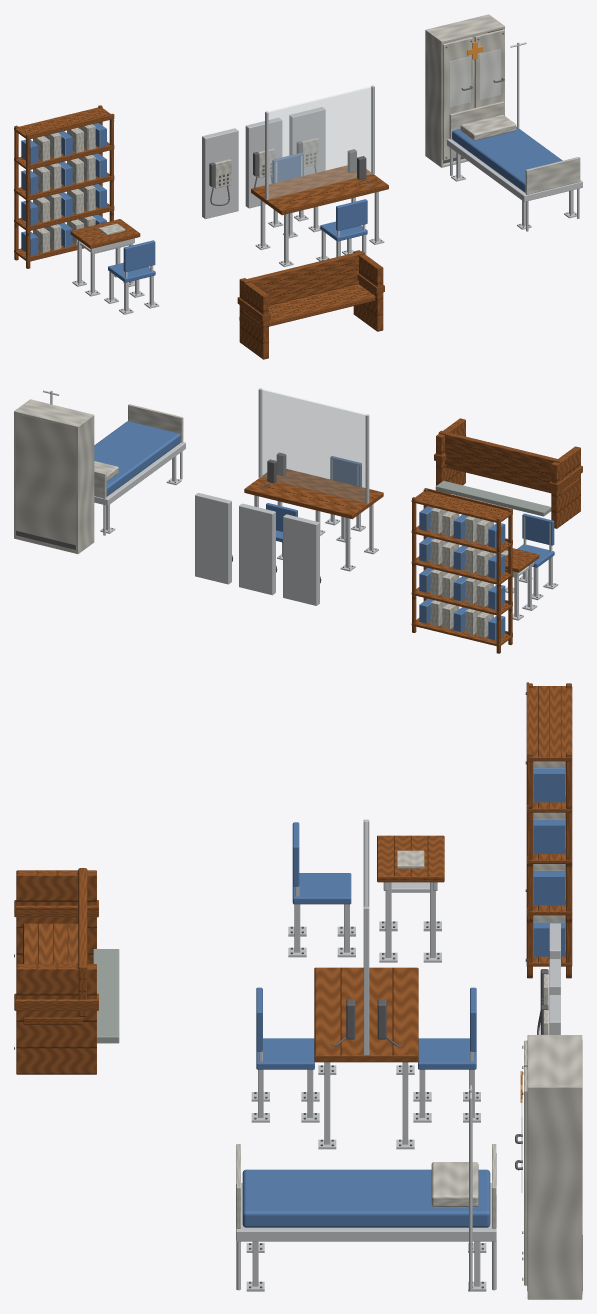
The model's file is prison-complex-builder-rehabilitation-and-care-541ae69b__25724.glb.
3 renders of one model, top to bottom at view 1: azimuth 30°, elevation 25°; view 2: azimuth 150°, elevation 25°; view 3: azimuth 270°, elevation 25°, orthographic. The views are drawn at different scales.
Visible parts, largest first — view 1: 002-visitation-booth/3, 006-chapel-pew/0, 003-phone-bank/0, 001-library-shelf/0, 001-library-shelf/5, 005-pharmacy-cabinet/0, 002-visitation-booth/0, 004-infirmary-bed/3, 001-library-shelf/3, 004-infirmary-bed/2, 002-visitation-booth/1, 005-pharmacy-cabinet/door-1/plasticWhite (+11 smaller); view 2: 005-pharmacy-cabinet/0, 003-phone-bank/0, 002-visitation-booth/3, 006-chapel-pew/0, 001-library-shelf/0, 001-library-shelf/5, 002-visitation-booth/0, 001-library-shelf/3, 004-infirmary-bed/2, 002-visitation-booth/1, 004-infirmary-bed/3, 006-chapel-pew/1 (+7 smaller); view 3: 006-chapel-pew/0, 005-pharmacy-cabinet/0, 004-infirmary-bed/2, 002-visitation-booth/0, 001-library-shelf/0, 002-visitation-booth/1, 004-infirmary-bed/0, 002-visitation-booth/4, 001-library-shelf/3, 000-classroom-desk/0, 004-infirmary-bed/3, 000-classroom-desk/2 (+7 smaller).
Boxes of the visible parts, left/top/right/bottom form: 002-visitation-booth/3: left=268, top=86, right=371, bottom=199; 006-chapel-pew/0: left=237, top=250, right=384, bottom=359; 003-phone-bank/0: left=202, top=107, right=325, bottom=218; 001-library-shelf/0: left=14, top=105, right=114, bottom=268; 001-library-shelf/5: left=33, top=124, right=95, bottom=252; 005-pharmacy-cabinet/0: left=425, top=14, right=504, bottom=167; 002-visitation-booth/0: left=251, top=165, right=388, bottom=215; 004-infirmary-bed/3: left=449, top=101, right=580, bottom=194; 001-library-shelf/3: left=21, top=122, right=106, bottom=255; 004-infirmary-bed/2: left=452, top=127, right=562, bottom=192; 002-visitation-booth/1: left=255, top=85, right=384, bottom=266; 005-pharmacy-cabinet/door-1/plasticWhite: left=442, top=37, right=472, bottom=160; 005-pharmacy-cabinet/0: left=14, top=399, right=94, bottom=553; 003-phone-bank/0: left=195, top=493, right=319, bottom=605; 002-visitation-booth/3: left=261, top=389, right=366, bottom=502; 006-chapel-pew/0: left=434, top=418, right=582, bottom=528; 001-library-shelf/0: left=411, top=488, right=512, bottom=653; 001-library-shelf/5: left=430, top=507, right=493, bottom=637; 002-visitation-booth/0: left=244, top=469, right=383, bottom=519; 001-library-shelf/3: left=419, top=506, right=505, bottom=640; 004-infirmary-bed/2: left=94, top=421, right=180, bottom=496; 002-visitation-booth/1: left=254, top=388, right=378, bottom=571; 004-infirmary-bed/3: left=94, top=404, right=183, bottom=498; 006-chapel-pew/1: left=435, top=480, right=551, bottom=516; 006-chapel-pew/0: left=14, top=868, right=98, bottom=1074; 005-pharmacy-cabinet/0: left=527, top=1035, right=582, bottom=1299; 004-infirmary-bed/2: left=242, top=1169, right=490, bottom=1227; 002-visitation-booth/0: left=314, top=967, right=418, bottom=1062; 001-library-shelf/0: left=526, top=682, right=572, bottom=978; 002-visitation-booth/1: left=251, top=819, right=480, bottom=1149; 004-infirmary-bed/0: left=236, top=1183, right=496, bottom=1291; 002-visitation-booth/4: left=256, top=987, right=476, bottom=1069; 001-library-shelf/3: left=533, top=767, right=564, bottom=956; 000-classroom-desk/0: left=288, top=882, right=441, bottom=962; 004-infirmary-bed/3: left=236, top=1144, right=496, bottom=1228; 000-classroom-desk/2: left=377, top=835, right=444, bottom=882.
Size of the model in its own units: 7.18 by 2.07 by 4.37.
Materials: 8 (2 with a texture image).
